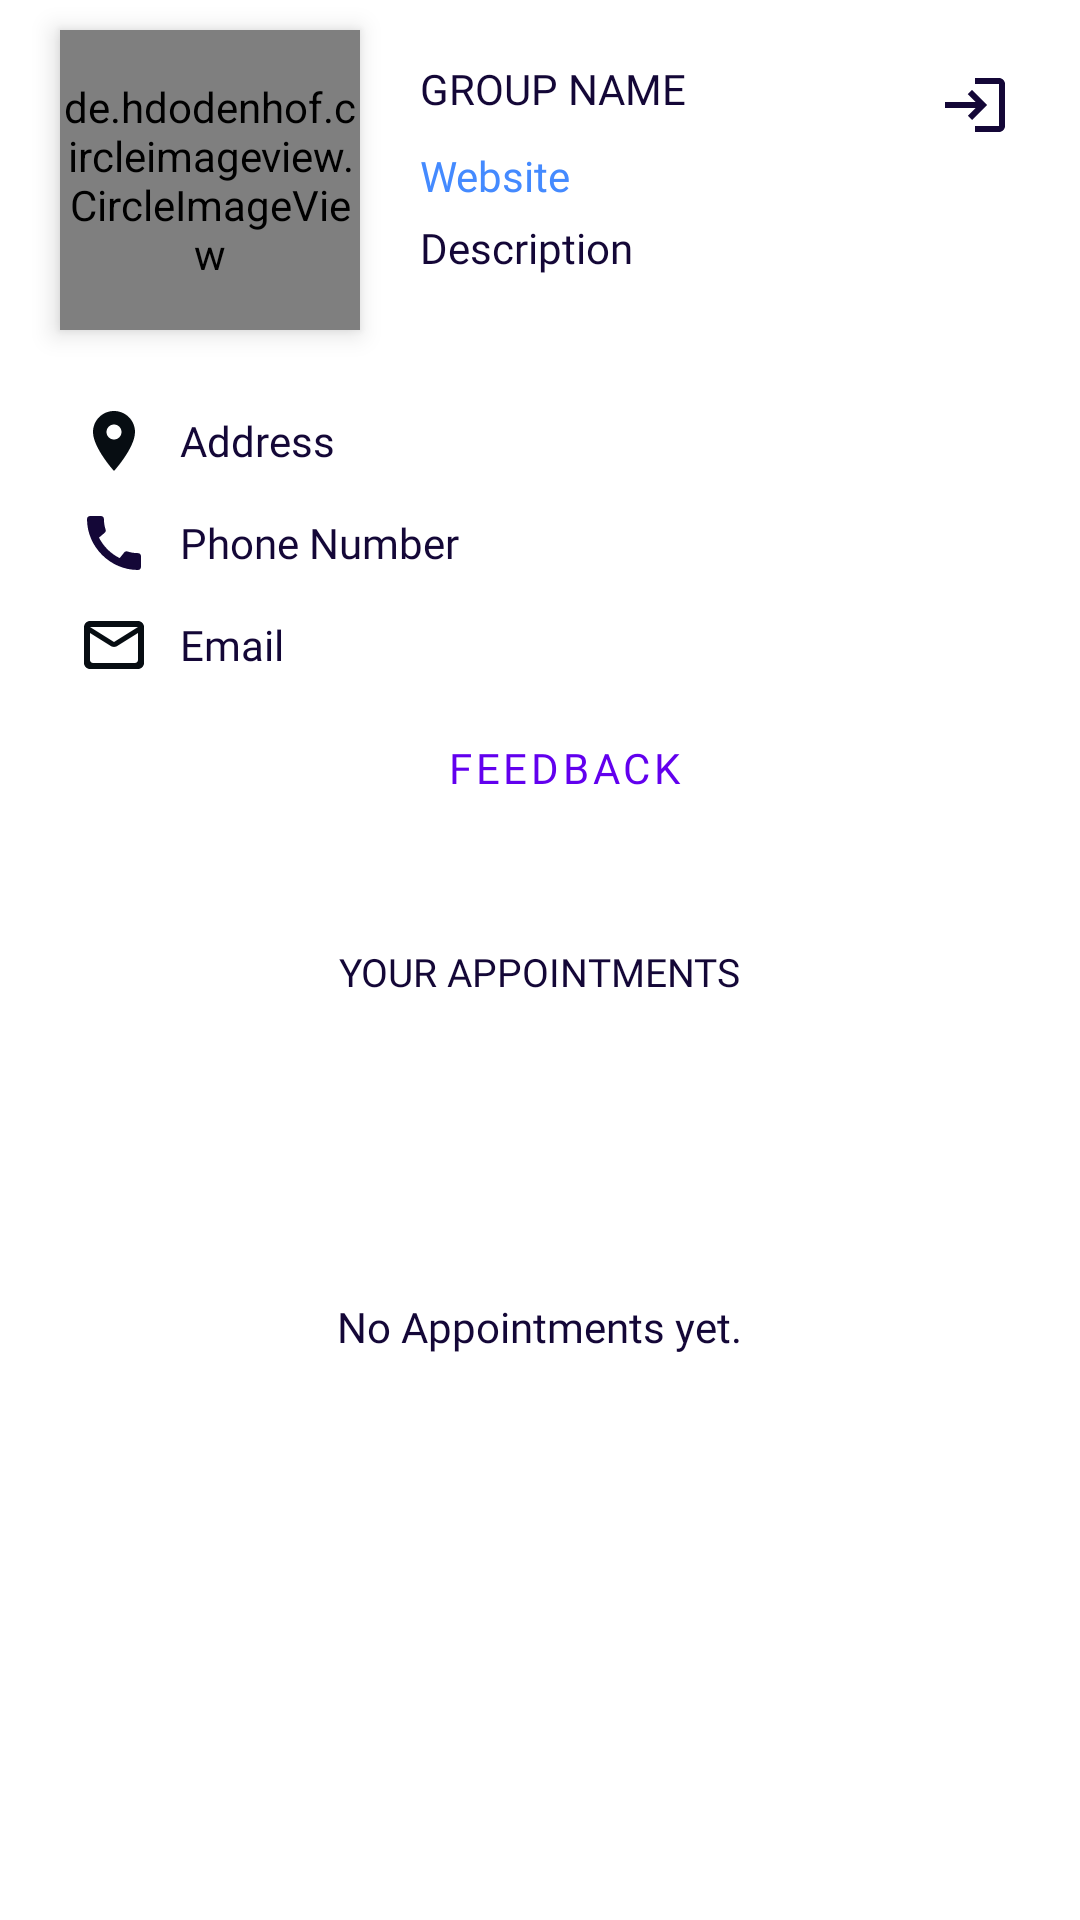

Screen size 1080×1920. Icon name, then its center in pixels as (x,y):
login: (975,105)
